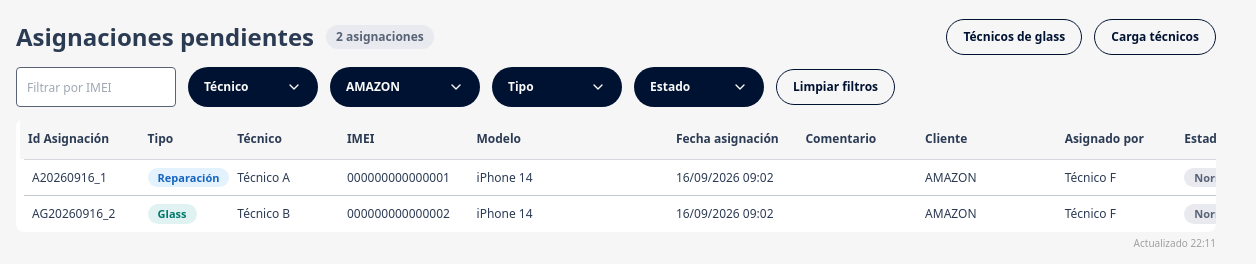
AsignacionesPage · el ADMIN entra en solo lectura › los filtros y el panel de carga siguen funcionando
Expected: the text "A20260916_1" is shown, [20,159,140,196]
Expected: the text "2 asignaciones" is shown, [326,25,434,49]
Type "000000000000001" into the field labelled "Filtrar por IMEI".
click(96, 87); type("000000000000001")  # box [16,67,176,107]
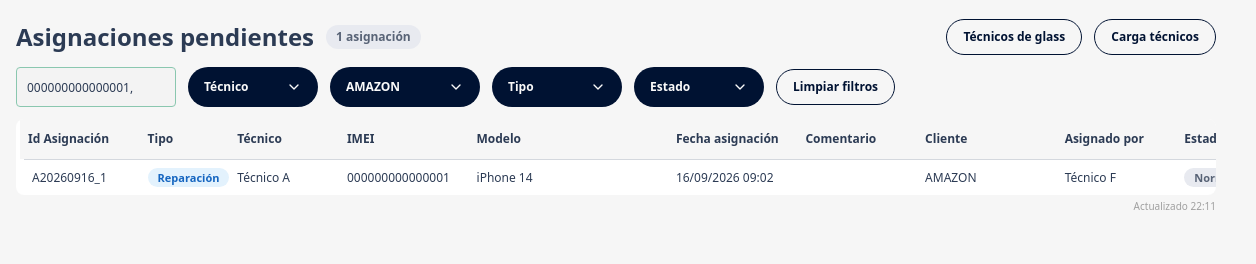
Now the text "1 asignación" is shown, box [326,25,421,49]
Click the button "Limpiar filtros".
click(836, 87)  # box [776,69,895,105]
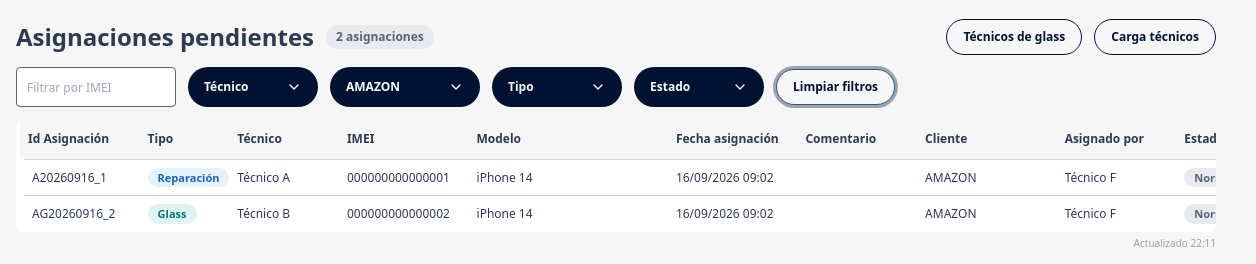
Now the text "2 asignaciones" is shown, box [326,25,434,49]
Click the button "Carga técnicos".
click(1155, 37)  # box [1094,19,1216,55]
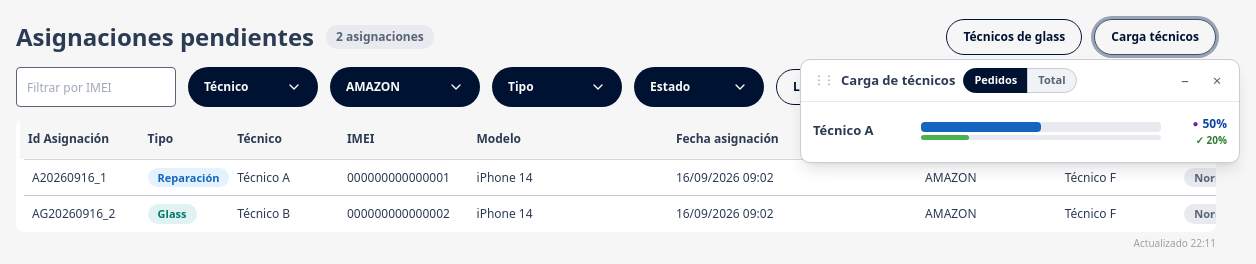
Now the list named "Carga por técnico" is shown, box [809,108,1231,154]
Now the text "Técnico A" below "Carga de técnicos" is shown, box [813,121,874,139]
